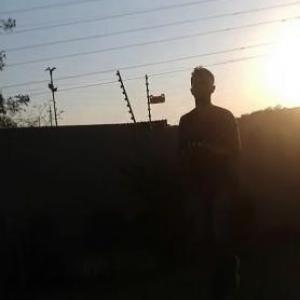follow: (173, 60, 250, 299)
